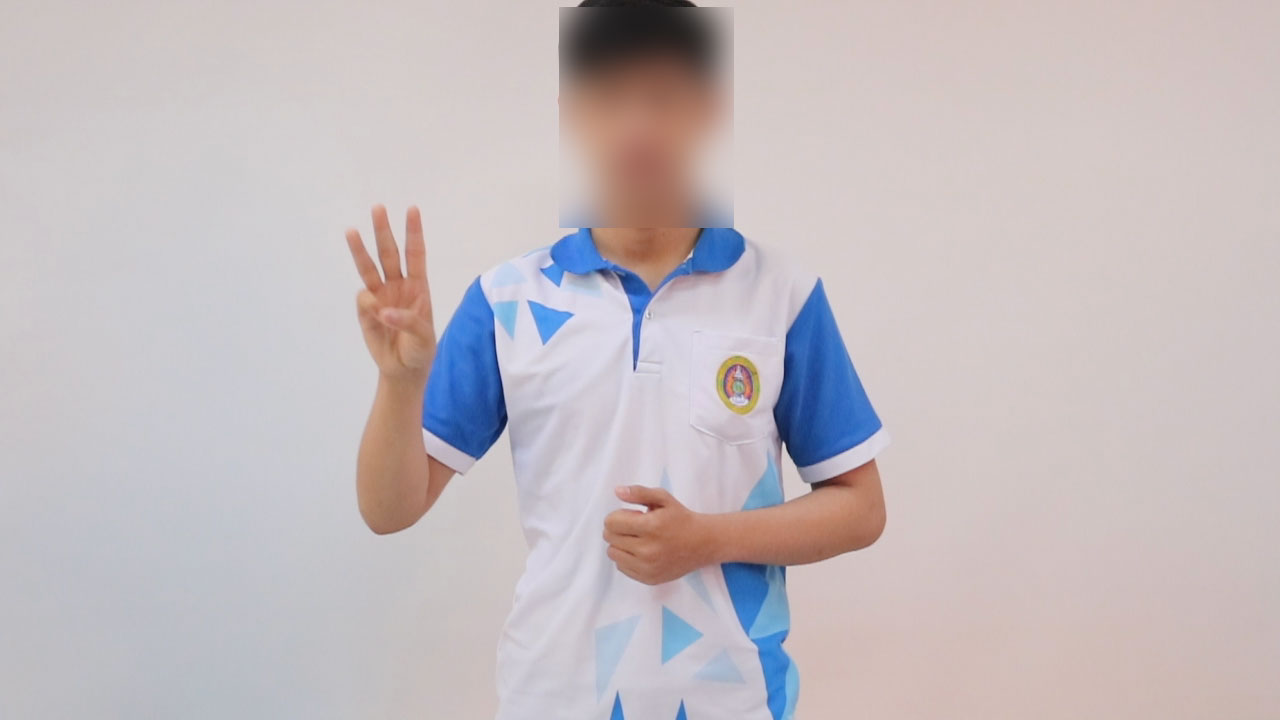wor: (340, 197, 445, 389)
